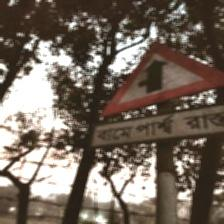Side-road-left: (93, 42, 224, 150)
